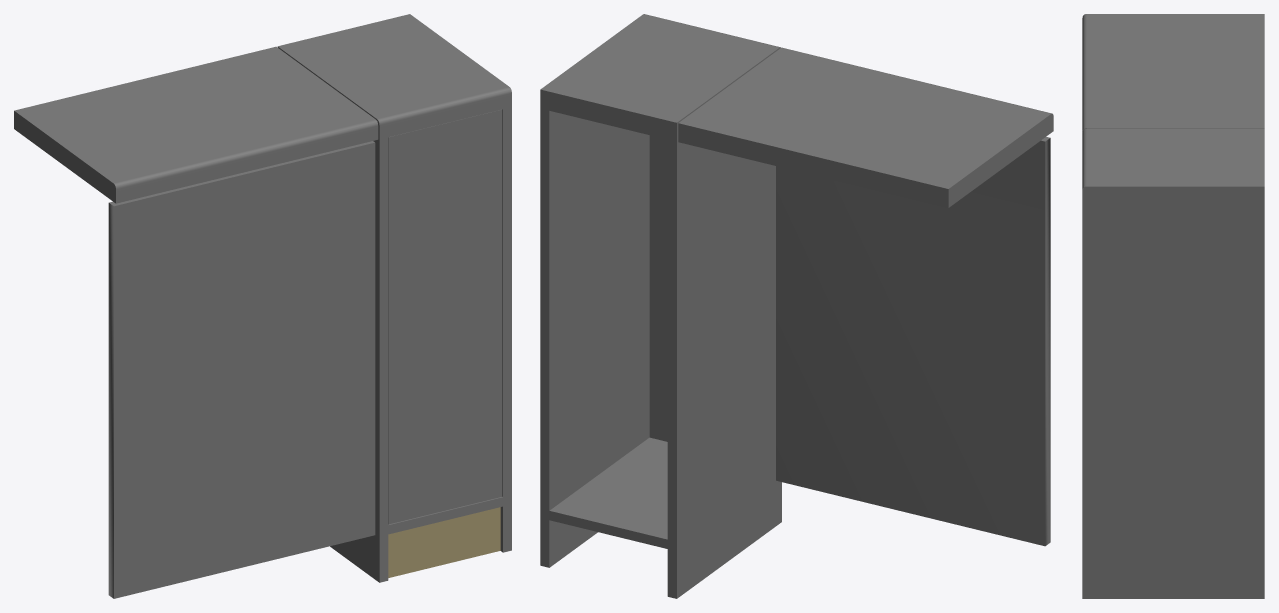
The model's file is Section 2.fbx.
3 renders of one model, left to right at view 1: azimuth 30°, elevation 25°; view 2: azimuth 150°, elevation 25°; view 3: azimuth 270°, elevation 25°, orthographic. The views are drawn at different scales.
Parts seen in each view (by area): view 1: Box09, Box62, Box08; view 2: Box62, Box09, Box08; view 3: Box62, Box08.
Part boxes in pixels (x1=…): Box09: x1=108, y1=141, x2=375, y2=598; Box62: x1=277, y1=14, x2=511, y2=582; Box08: x1=14, y1=46, x2=378, y2=203; Box62: x1=540, y1=14, x2=781, y2=598; Box09: x1=776, y1=137, x2=1050, y2=546; Box08: x1=678, y1=47, x2=1053, y2=207; Box62: x1=1082, y1=128, x2=1264, y2=598; Box08: x1=1082, y1=14, x2=1264, y2=132.
Bounding box in the file's own units: 2278 × 2540 × 1016.
